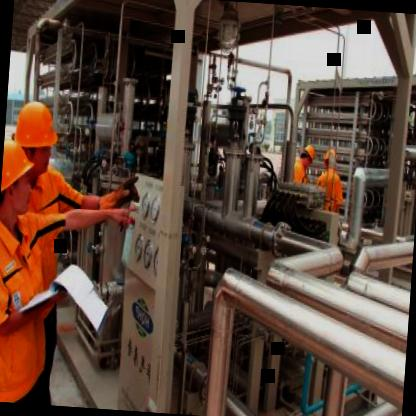helmet: (6, 97, 64, 182), (0, 132, 44, 229), (296, 139, 318, 170)
